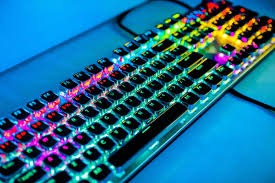keyboard: (4, 0, 271, 183)
